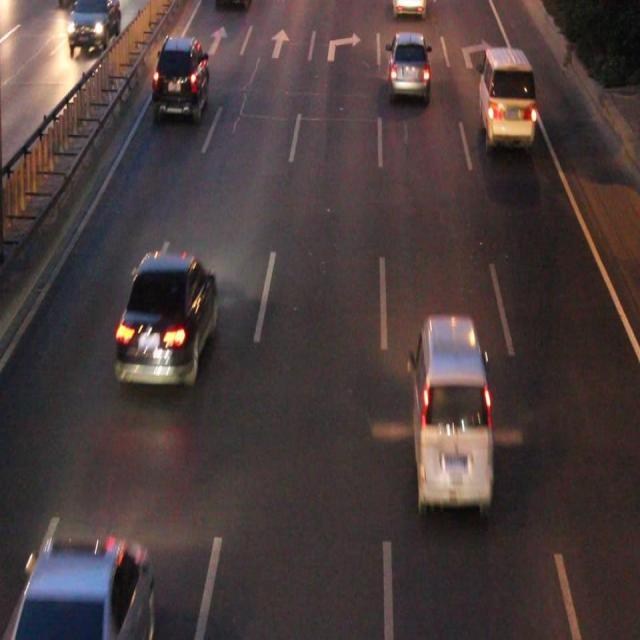car: (19, 535, 151, 640), (116, 254, 215, 384), (156, 38, 208, 116), (388, 35, 428, 97), (392, 1, 424, 14)
truck: (410, 317, 490, 508), (478, 49, 533, 141)
